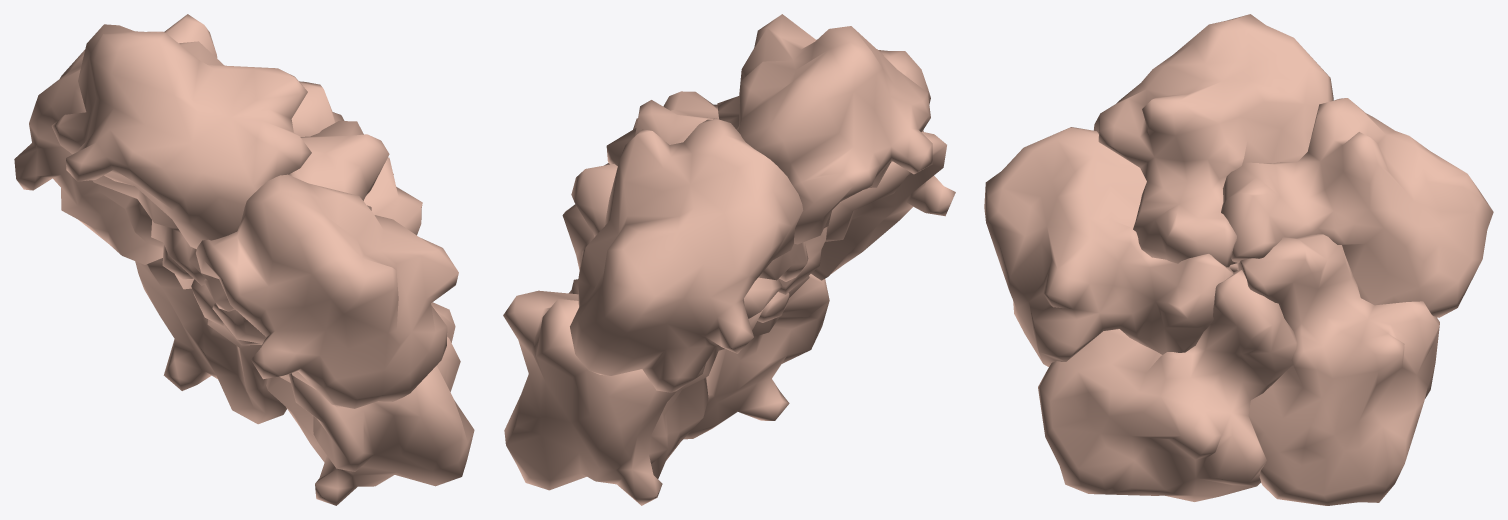
File: 2plv_Polio.fbx
The picture shows the model from 3 angles, left to right: view 1: azimuth 30°, elevation 25°; view 2: azimuth 150°, elevation 25°; view 3: azimuth 270°, elevation 25°; orthographic projection. The views are drawn at different scales.
Visible parts, largest first — view 1: CoarseMS_2plv.3, CoarseMS_2plv.2, CoarseMS_2plv, CoarseMS_2plv.4, CoarseMS_2plv.5; view 2: CoarseMS_2plv.4, CoarseMS_2plv.3, CoarseMS_2plv.5, CoarseMS_2plv, CoarseMS_2plv.2; view 3: CoarseMS_2plv, CoarseMS_2plv.5, CoarseMS_2plv.2, CoarseMS_2plv.4, CoarseMS_2plv.3.
Part boxes in pixels (bbox=[...]): CoarseMS_2plv.3: bbox=[51, 24, 389, 285]; CoarseMS_2plv.2: bbox=[189, 157, 458, 408]; CoarseMS_2plv: bbox=[212, 174, 474, 505]; CoarseMS_2plv.4: bbox=[14, 14, 344, 289]; CoarseMS_2plv.5: bbox=[135, 258, 286, 424]; CoarseMS_2plv.4: bbox=[570, 100, 803, 392]; CoarseMS_2plv.3: bbox=[633, 14, 932, 281]; CoarseMS_2plv.5: bbox=[503, 163, 763, 505]; CoarseMS_2plv: bbox=[562, 204, 829, 439]; CoarseMS_2plv.2: bbox=[778, 50, 955, 294]; CoarseMS_2plv: bbox=[1038, 270, 1297, 501]; CoarseMS_2plv.5: bbox=[1239, 234, 1439, 505]; CoarseMS_2plv.2: bbox=[984, 127, 1237, 366]; CoarseMS_2plv.4: bbox=[1221, 98, 1493, 317]; CoarseMS_2plv.3: bbox=[1093, 14, 1333, 270].
Bounding box in the file's own units: 126 × 149 × 172.
